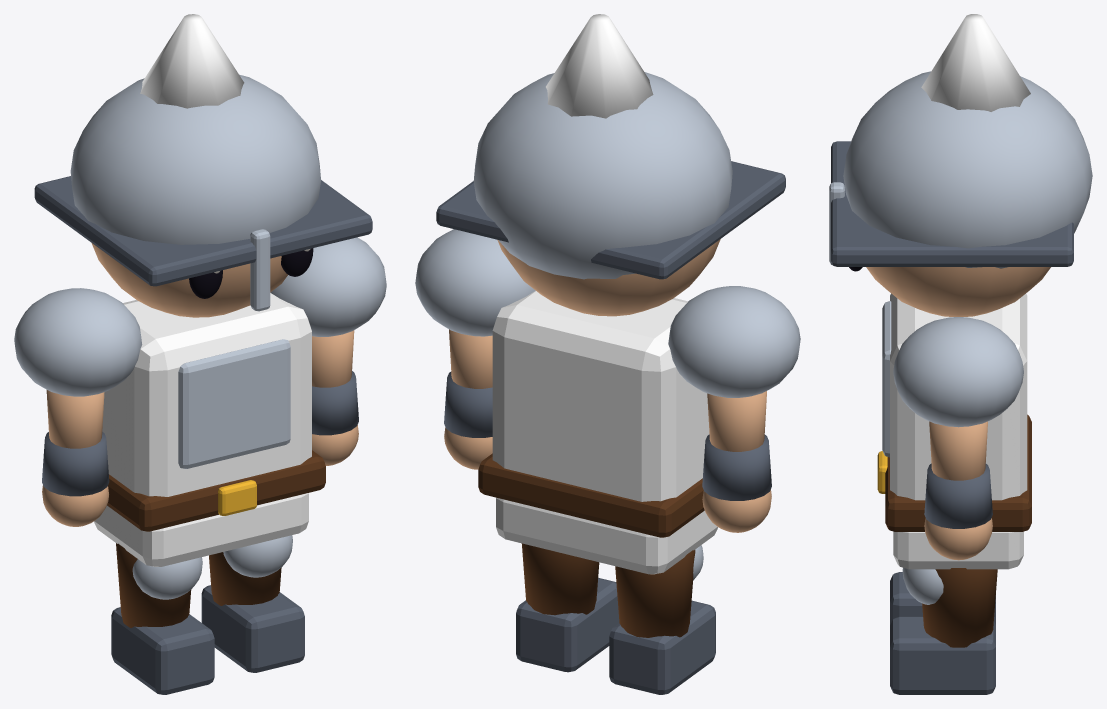
The model's file is fighter.glb.
3 renders of one model, left to right at view 1: azimuth 30°, elevation 25°; view 2: azimuth 150°, elevation 25°; view 3: azimuth 270°, elevation 25°, orthographic. The views are drawn at different scales.
Parts seen in each view (by area): view 1: helm, chest, plate, pauldron, visorband, skirt, pauldron.001, boot, boot.001, crest, belt, skull (+14 smaller); view 2: helm, chest, pauldron, pauldron.001, skirt, visorband, belt, crest, boot, skull, boot.001, thigh (+7 smaller); view 3: helm, pauldron.001, chest, visorband, boot.001, skull, crest, thigh.001, skirt, gaunt.001, belt, arm.001 (+4 smaller).
Part boxes in pixels (bbox=[...]): helm: bbox=[70, 74, 320, 244]; chest: bbox=[102, 293, 311, 496]; plate: bbox=[178, 339, 290, 468]; pauldron: bbox=[14, 288, 142, 396]; visorband: bbox=[34, 176, 372, 286]; skirt: bbox=[94, 493, 308, 566]; pauldron.001: bbox=[270, 237, 386, 336]; boot: bbox=[111, 607, 214, 694]; boot.001: bbox=[201, 585, 304, 672]; crest: bbox=[140, 14, 244, 108]; belt: bbox=[107, 450, 325, 531]; skull: bbox=[91, 243, 287, 317]; helm: bbox=[473, 72, 732, 279]; chest: bbox=[492, 290, 709, 501]; pauldron: bbox=[668, 286, 800, 397]; pauldron.001: bbox=[415, 229, 535, 336]; skirt: bbox=[496, 497, 717, 574]; visorband: bbox=[436, 161, 785, 279]; belt: bbox=[478, 453, 704, 537]; crest: bbox=[546, 14, 653, 118]; boot: bbox=[609, 600, 715, 694]; skull: bbox=[497, 239, 720, 316]; boot.001: bbox=[516, 578, 619, 672]; thigh: bbox=[615, 550, 695, 637]; helm: bbox=[843, 71, 1092, 268]; pauldron.001: bbox=[893, 317, 1023, 427]; chest: bbox=[890, 293, 1027, 500]; visorband: bbox=[831, 141, 1073, 266]; boot.001: bbox=[890, 616, 995, 694]; skull: bbox=[866, 267, 1050, 316]; crest: bbox=[921, 14, 1030, 111]; thigh.001: bbox=[922, 568, 997, 647]; skirt: bbox=[893, 531, 1023, 569]; gaunt.001: bbox=[924, 463, 992, 528]; belt: bbox=[885, 414, 1031, 531]; arm.001: bbox=[929, 421, 987, 480].
Bounding box in the file's own units: 1.34 × 2.28 × 0.845.
